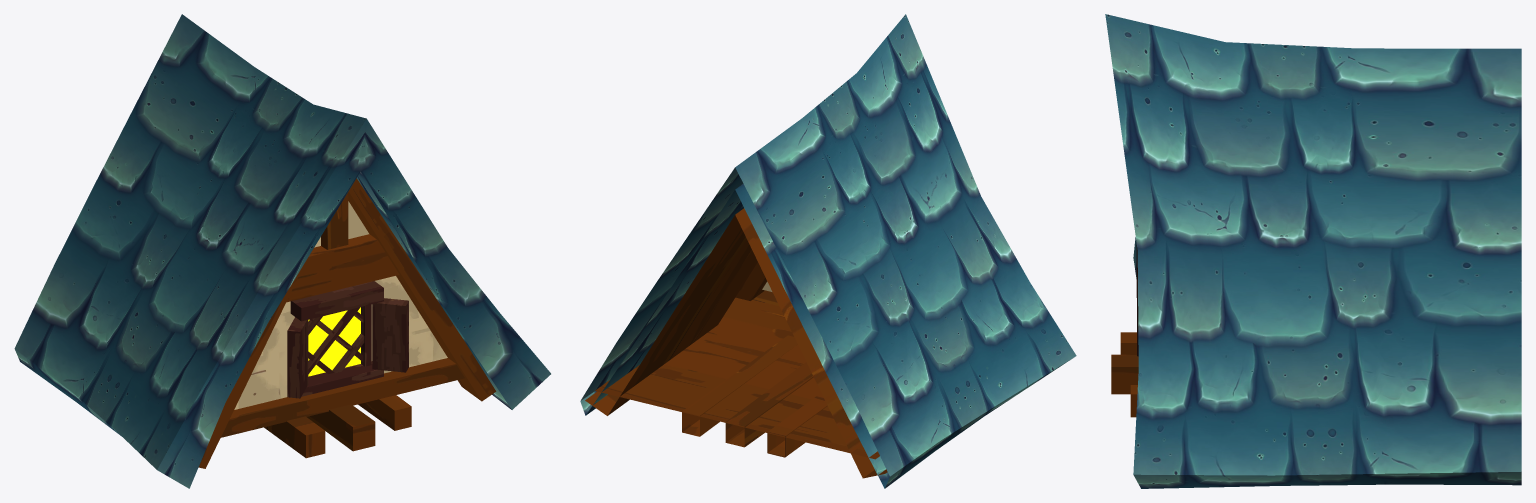
The model's file is SM_BLD_window_v05_01.glb.
The picture shows the model from 3 angles, left to right: view 1: azimuth 30°, elevation 25°; view 2: azimuth 150°, elevation 25°; view 3: azimuth 270°, elevation 25°; orthographic projection. The views are drawn at different scales.
Visible parts, largest first — view 1: SM_BLD_window_v05_01_EXPORT; view 2: SM_BLD_window_v05_01_EXPORT; view 3: SM_BLD_window_v05_01_EXPORT.
Boxes of the visible parts, x1,y1,x2,y2 form: SM_BLD_window_v05_01_EXPORT: (14,14,550,488); SM_BLD_window_v05_01_EXPORT: (580,14,1076,488); SM_BLD_window_v05_01_EXPORT: (1105,14,1521,488).
Size of the model in its own units: 4.55 by 3.78 by 3.69.
Materials: 5 (5 with a texture image).
